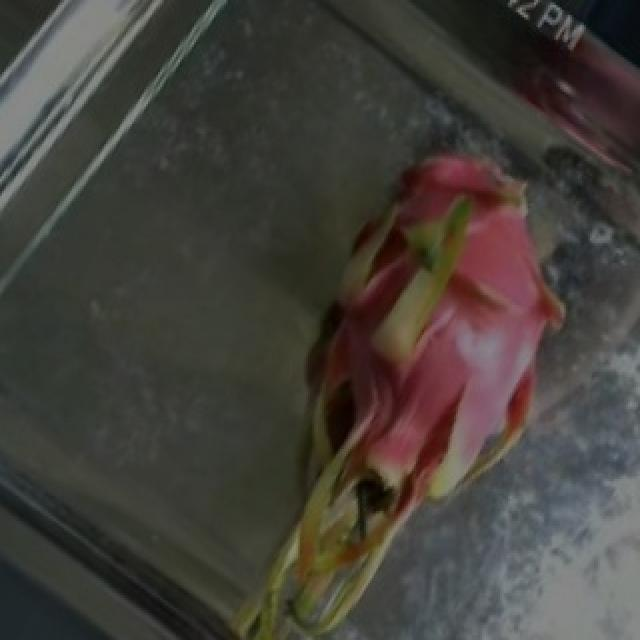fruit: (202, 181, 630, 640)
